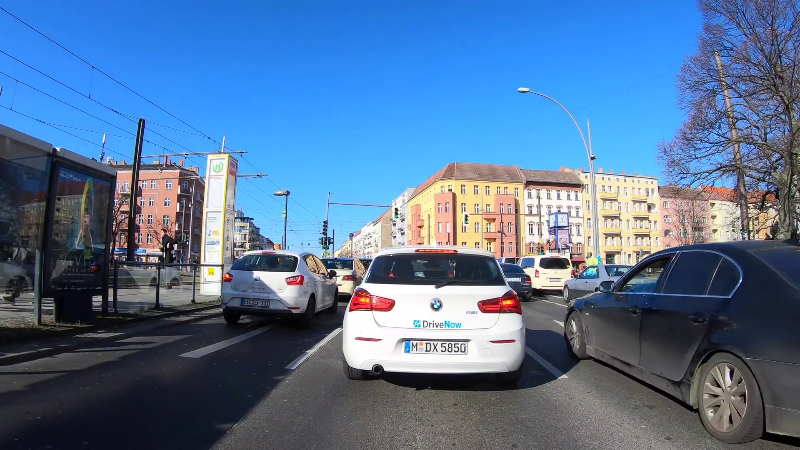Plate: (402, 338, 468, 354), (238, 297, 272, 308), (506, 275, 524, 282), (548, 277, 562, 282)
